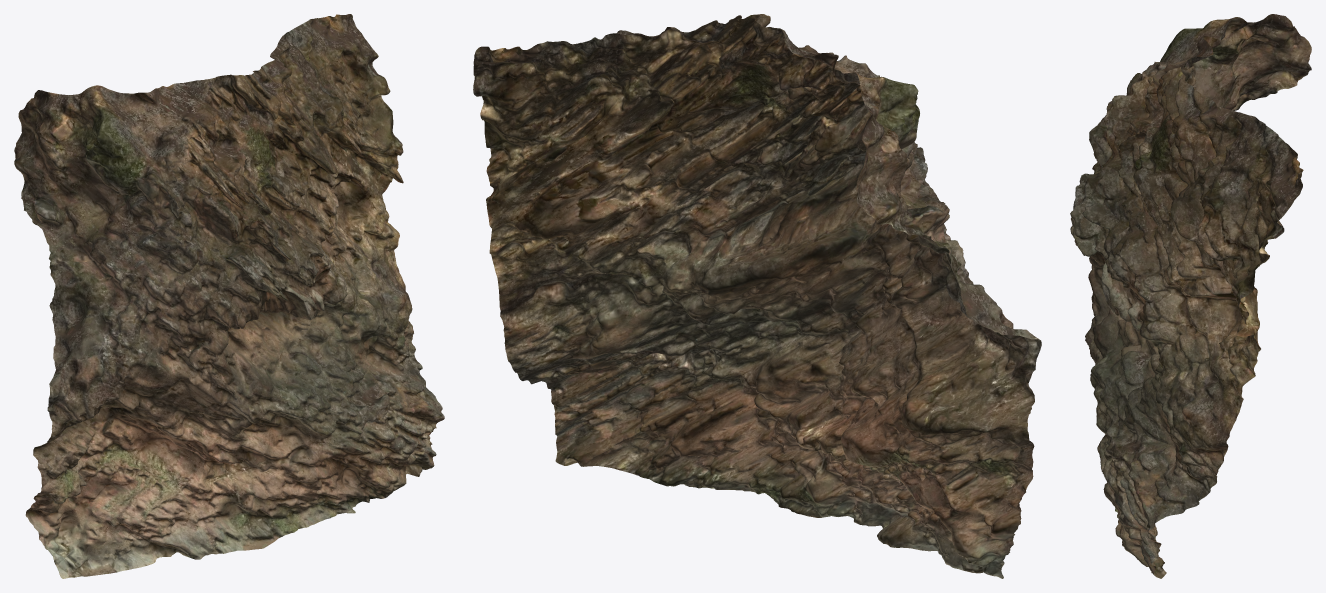
The model's file is mountainside.glb.
3 views of the same model, side by side, from view 1: azimuth 30°, elevation 25°; view 2: azimuth 150°, elevation 25°; view 3: azimuth 270°, elevation 25° (orthographic). The views are drawn at different scales.
Parts seen in each view (by area): view 1: mountainside; view 2: mountainside; view 3: mountainside.
Part boxes in pixels (<box>): mountainside: <box>14,14,444,578</box>; mountainside: <box>473,14,1041,578</box>; mountainside: <box>1070,14,1311,578</box>.
Bounding box in the file's own units: 10.21 × 10.52 × 5.25.
1 material, 1 textured.
